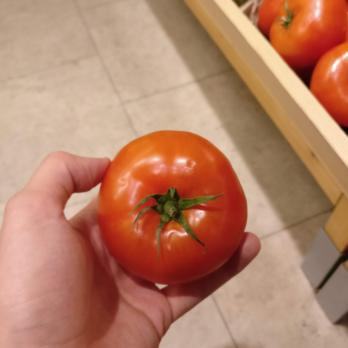Tomato: (94, 127, 246, 290)
